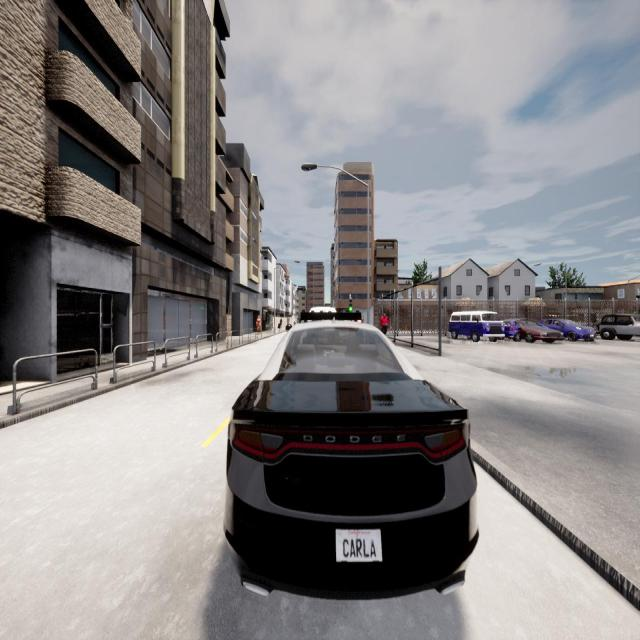Pedestrian: (379, 313, 388, 334), (256, 315, 261, 333)
Vehicle: (225, 323, 479, 598), (449, 312, 503, 342), (502, 319, 562, 343), (542, 318, 594, 341), (598, 314, 640, 339), (309, 307, 336, 320)
traffic_light: (348, 298, 352, 312)
